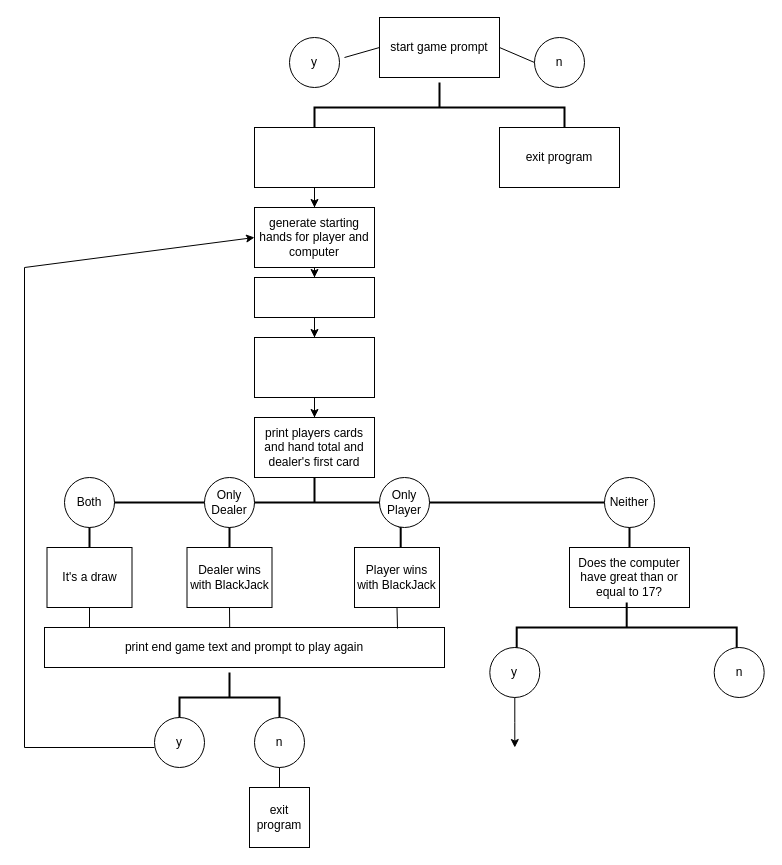
The diagram is 782 pixels wide and 865 high, and some of its shapes have lost their labels. Here are the shapes that lost their labels. From the top down, the centre of each, then its label:
At point (314, 157): "print logo".
At point (314, 297): "calculate scores".
At point (314, 367): "check hands for blackjack".
